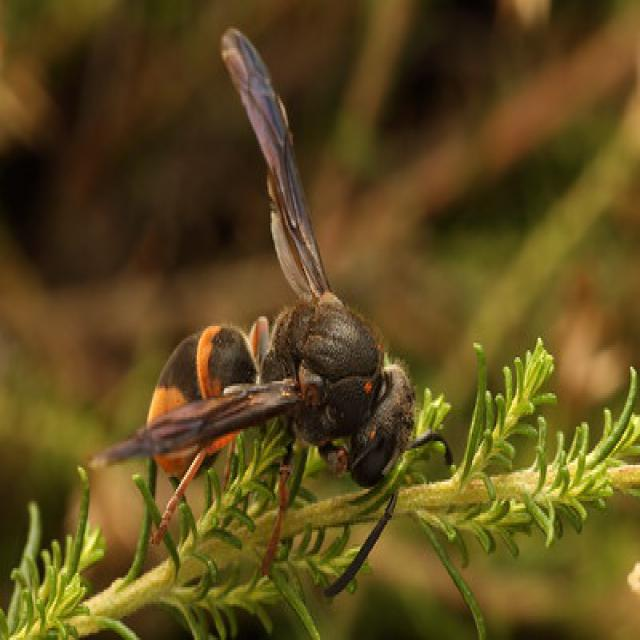Guepe: (76, 11, 477, 600)
